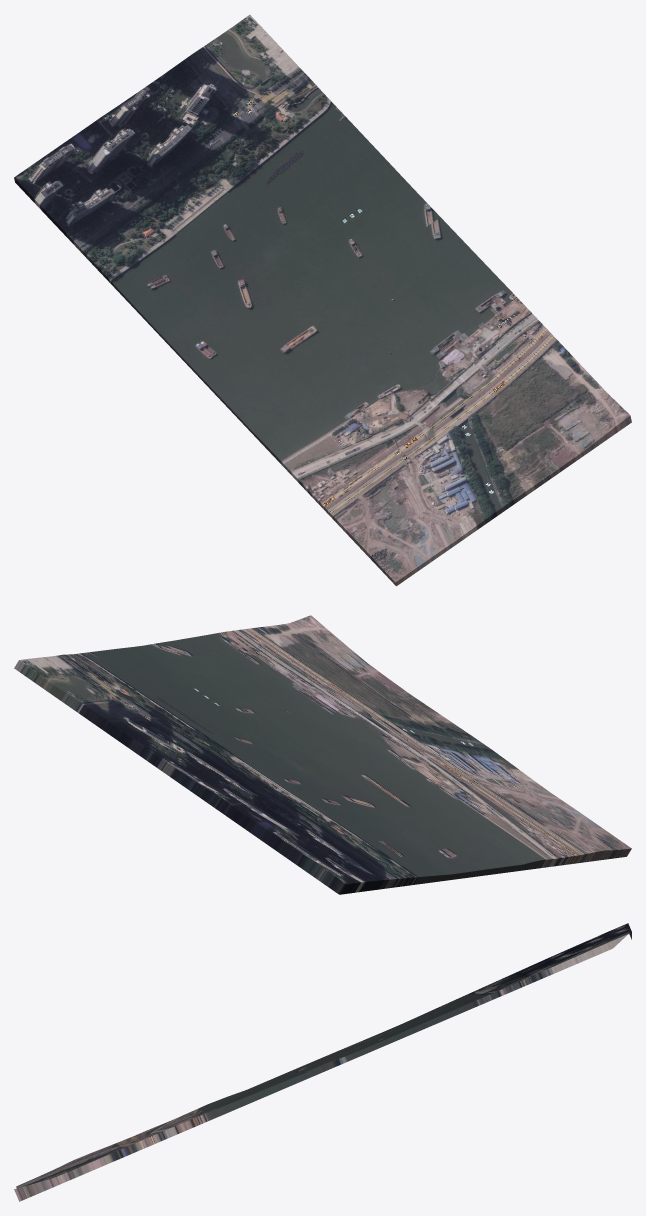
3 views of the same model, one above another, from view 1: azimuth 30°, elevation 25°; view 2: azimuth 150°, elevation 25°; view 3: azimuth 270°, elevation 25° (orthographic). The views are drawn at different scales.
Visible parts, largest first — view 1: 1_6_16; view 2: 1_6_16; view 3: 1_6_16.
Part boxes in pixels (x1=…): 1_6_16: x1=14, y1=14, x2=631, y2=586; 1_6_16: x1=14, y1=615, x2=631, y2=894; 1_6_16: x1=14, y1=923, x2=631, y2=1201.
Size of the model in its own units: 712 by 673 by 1129.
Materials: 1 (1 with a texture image).
